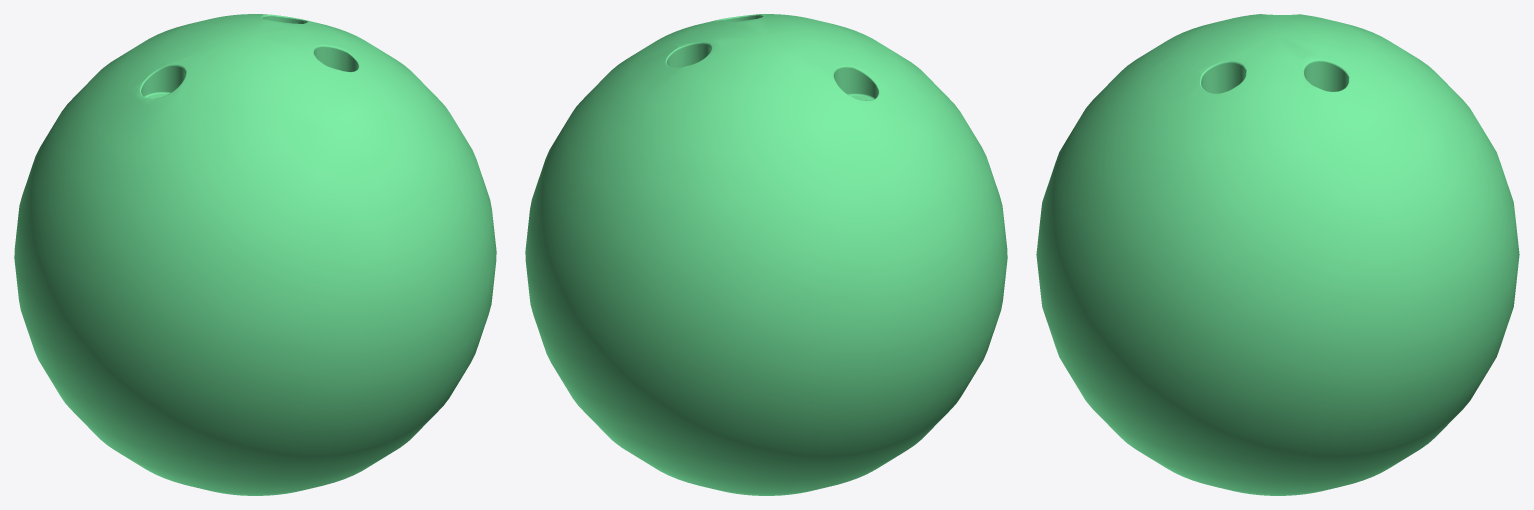
Rendered from DM_BowlingBall.fbx.
3 views of the same model, side by side, from view 1: azimuth 30°, elevation 25°; view 2: azimuth 150°, elevation 25°; view 3: azimuth 270°, elevation 25° (orthographic).
Parts seen in each view (by area): view 1: DM_BowlingBall; view 2: DM_BowlingBall; view 3: DM_BowlingBall.
Boxes of the visible parts, bbox=[...] form: DM_BowlingBall: bbox=[14, 14, 496, 495]; DM_BowlingBall: bbox=[525, 14, 1007, 495]; DM_BowlingBall: bbox=[1036, 14, 1519, 495].
Bounding box in the file's own units: 0.2407 × 0.2407 × 0.2407.
